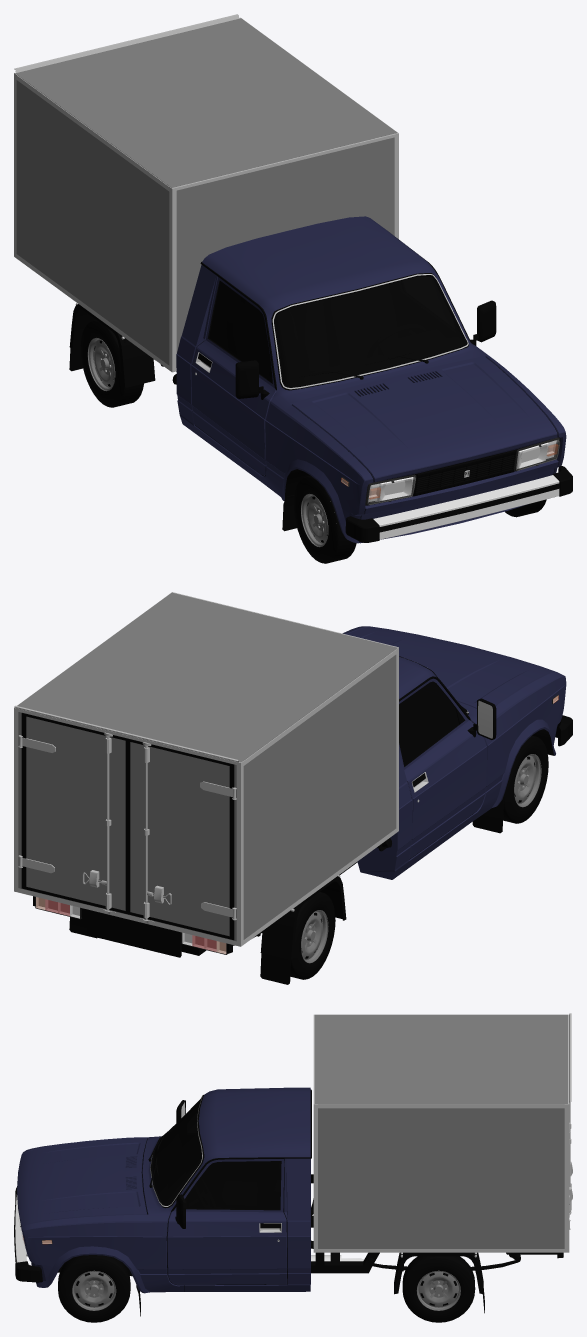
The model's file is lada-zhiguli-riva-105862.glb.
3 views of the same model, one above another, from view 1: azimuth 30°, elevation 25°; view 2: azimuth 150°, elevation 25°; view 3: azimuth 270°, elevation 25° (orthographic). The views are drawn at different scales.
Parts seen in each view (by area): view 1: body, wheel-front-right, wheel-back-right; view 2: body, wheel-back-right, wheel-front-right; view 3: body, wheel-front-left, wheel-back-left.
Boxes of the visible parts, x1=… form: body: x1=14, y1=14, x2=572, y2=543; wheel-front-right: x1=293, y1=475, x2=356, y2=563; wheel-back-right: x1=80, y1=320, x2=143, y2=407; body: x1=14, y1=592, x2=572, y2=984; wheel-back-right: x1=290, y1=892, x2=335, y2=979; wheel-front-right: x1=503, y1=735, x2=548, y2=823; body: x1=14, y1=1013, x2=572, y2=1316; wheel-front-left: x1=58, y1=1255, x2=130, y2=1322; wheel-back-left: x1=402, y1=1256, x2=475, y2=1322.
Bounding box in the file's own units: 1.84 × 1.88 × 4.25.
